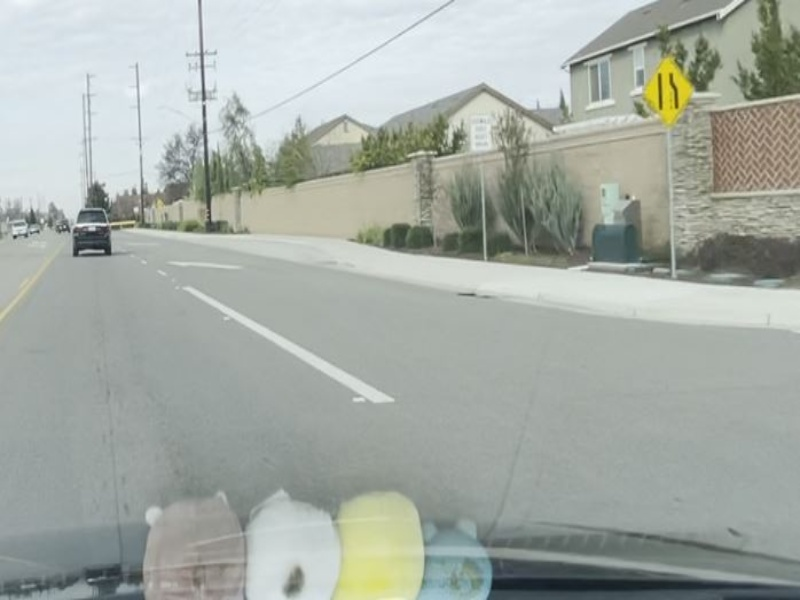merge sign: (643, 56, 696, 126)
